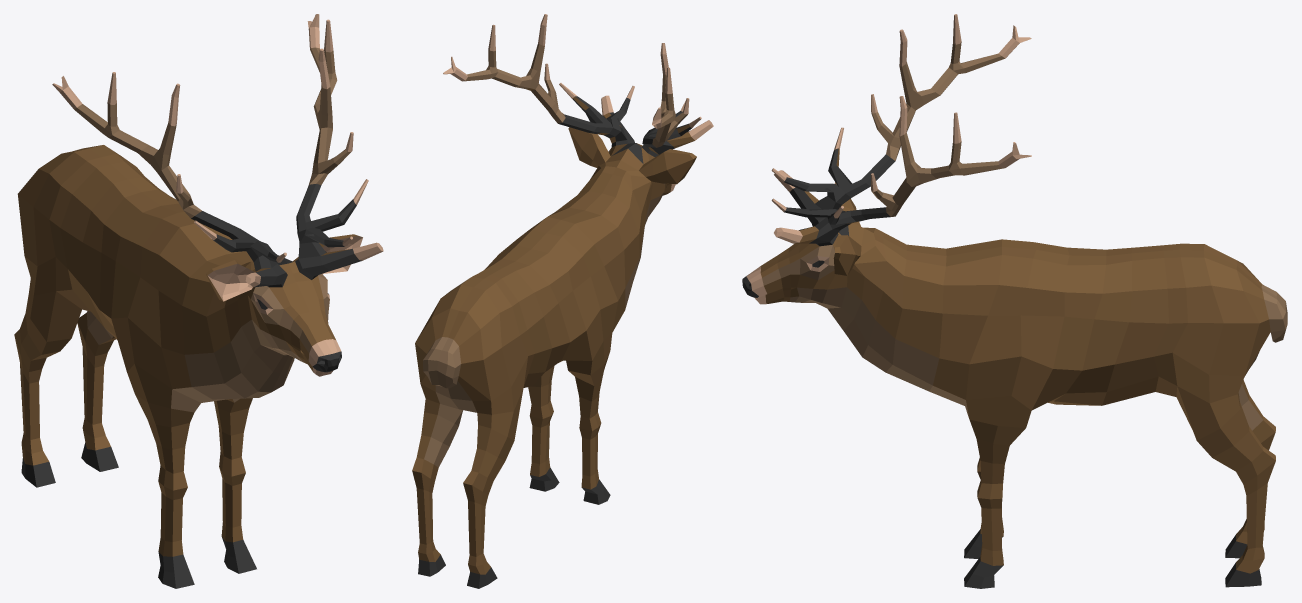
File: Stag.fbx
3 renders of one model, left to right at view 1: azimuth 30°, elevation 25°; view 2: azimuth 150°, elevation 25°; view 3: azimuth 270°, elevation 25°, orthographic. The views are drawn at different scales.
Visible parts, largest first — view 1: Stag; view 2: Stag; view 3: Stag.
Boxes of the visible parts, bbox=[...] form: Stag: bbox=[14, 14, 383, 588]; Stag: bbox=[412, 14, 713, 588]; Stag: bbox=[742, 14, 1287, 588].
Bounding box in the file's own units: 82.83 × 164 × 161.
